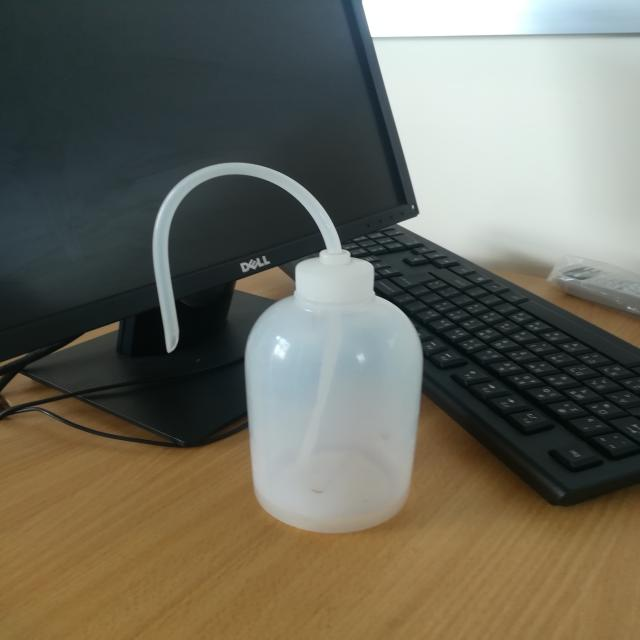Wash_Bottle: (95, 138, 494, 560)
